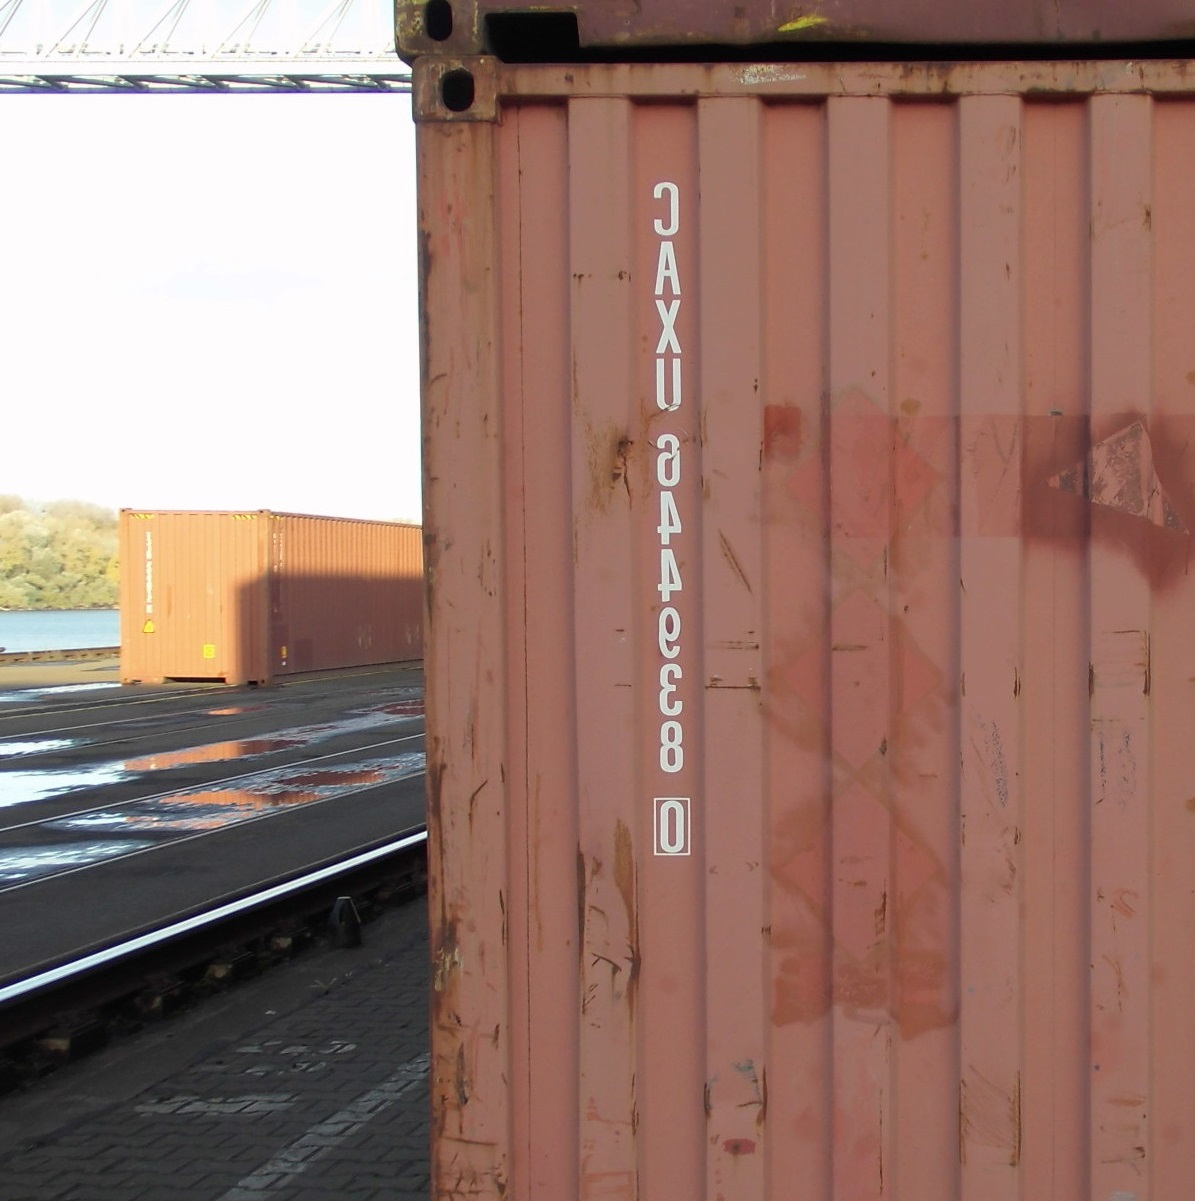container_no_door: (413, 57, 1191, 1201), (120, 506, 278, 688)
